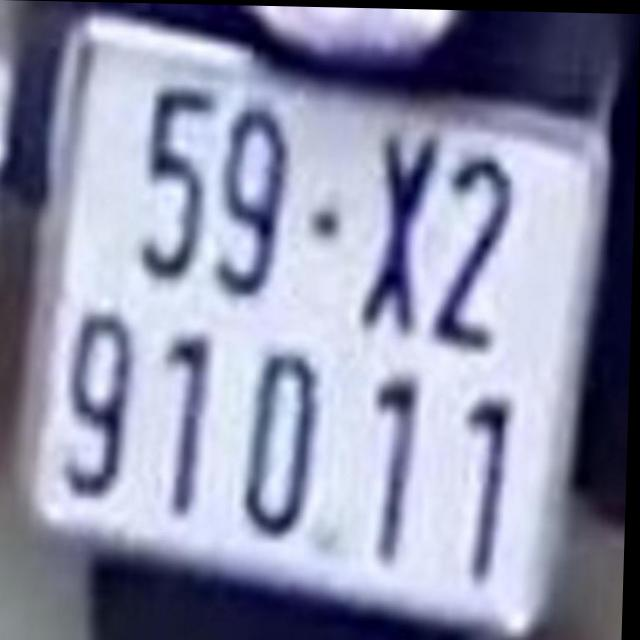0: (248, 348, 319, 534)
1: (369, 369, 422, 559), (159, 325, 211, 517), (462, 389, 512, 583)
2: (440, 154, 510, 349)
5: (142, 85, 213, 277)
9: (61, 307, 135, 495), (218, 105, 284, 291)
X: (368, 129, 434, 333)
